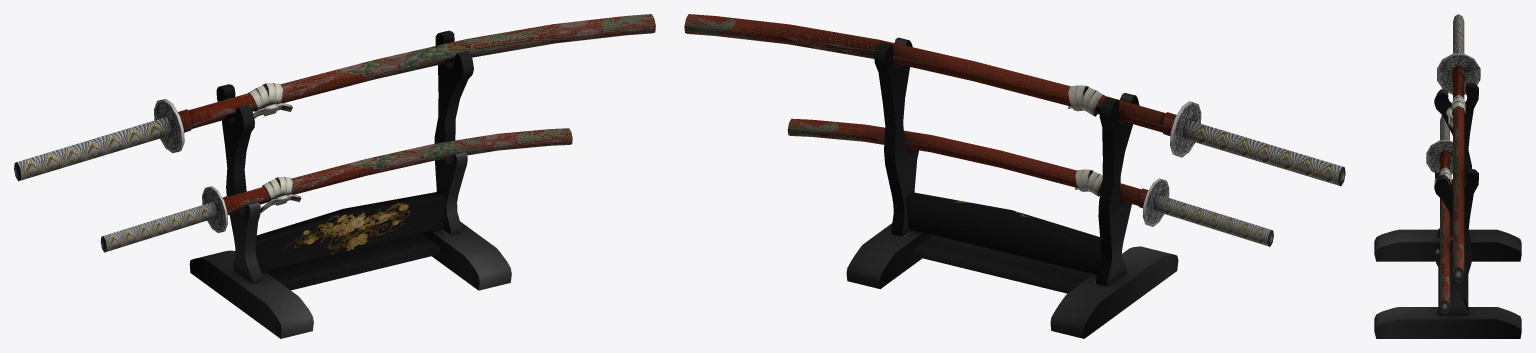
File: Katana1.b.fbx
3 views of the same model, side by side, from view 1: azimuth 30°, elevation 25°; view 2: azimuth 150°, elevation 25°; view 3: azimuth 270°, elevation 25° (orthographic). The views are drawn at different scales.
Visible parts, largest first — view 1: Group 0; view 2: Group 0; view 3: Group 0.
Boxes of the visible parts, x1,y1,x2,y2 form: Group 0: (14,14,655,338); Group 0: (684,14,1345,338); Group 0: (1374,14,1521,338).
Bounding box in the file's own units: 176 × 56.75 × 44.16.
Materials: 1 (1 with a texture image).
